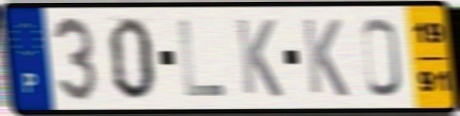0: (106, 15, 159, 103), (360, 16, 404, 99)
3: (51, 13, 98, 105)
K: (233, 16, 286, 101), (299, 15, 352, 100)
L: (175, 18, 228, 99)
